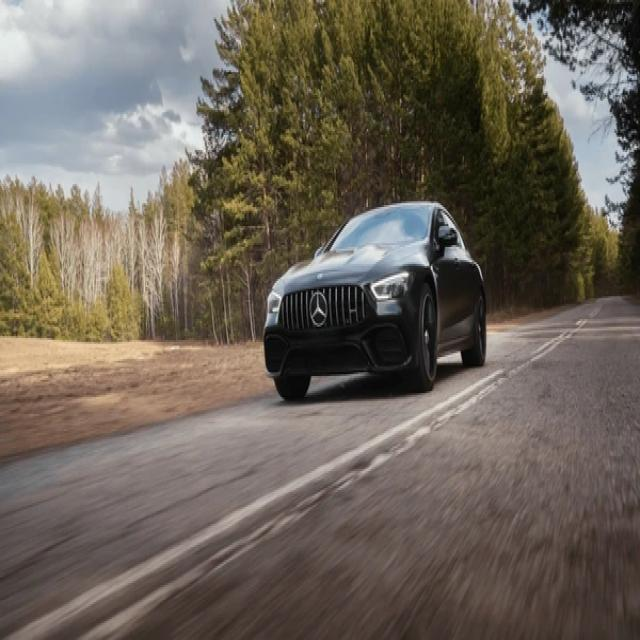mercedes: (307, 290, 331, 330)
